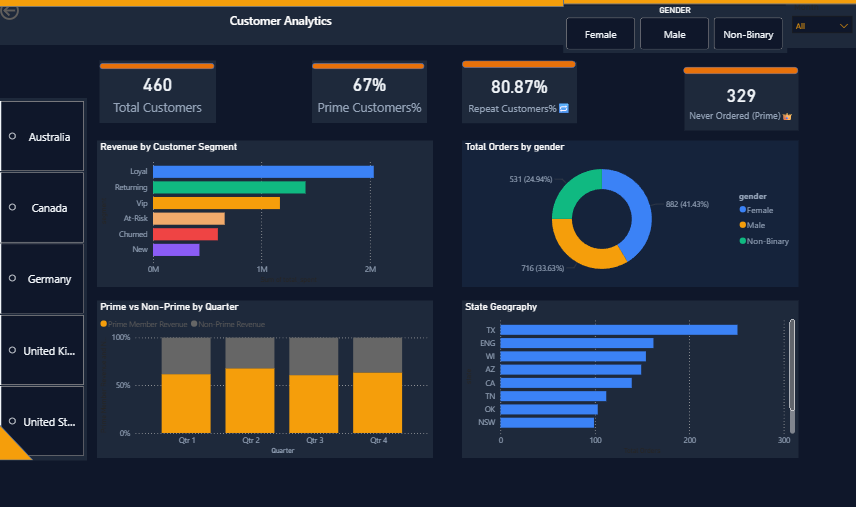

Layout of this report page (visuals, bound fields, positions):
{"tool":"powerbi","page":{"name":"Customers","canvas":[1377,823],"ordinal":1},"visuals":[{"type":"clusteredBarChart","title":"Revenue by Customer Segment","fields":{"Category":["public customers_clean.segment"],"Y":["Sum(public customers_clean.total_spent)"]},"box":[160.5,227.9,537.6,234.3],"z":0},{"type":"card","fields":{"Values":["Bridge Payment.VIP Customers"]},"box":[164,100,186,100],"z":1000},{"type":"shape","box":[164,104,184,10],"z":2000},{"type":"card","fields":{"Values":["Bridge Payment.Loyal Customers"]},"box":[504,100,184,100],"z":3000},{"type":"shape","box":[504,104,180,10],"z":4000},{"type":"card","fields":{"Values":["Bridge Payment.At-Risk Customers"]},"box":[744,102,184,98],"z":5000},{"type":"card","fields":{"Values":["Bridge Payment.Prime Members"]},"box":[1100,116,182,96],"z":6000},{"type":"shape","box":[744,100,182,12],"z":7000},{"type":"donutChart","fields":{"Y":["public categories_clean.Total Orders"],"Category":["public customers_clean.gender"]},"box":[744,228,538,234],"z":8000},{"type":"barChart","title":"State Geography","fields":{"Category":["public customers_clean.state"],"Y":["All_Measures.Total Orders"]},"box":[744,484,538,252],"z":9000},{"type":"hundredPercentStackedColumnChart","title":"Prime vs Non-Prime by Quarter","fields":{"Category":["Calendar.Date.Variation.Date Hierarchy.Quarter"],"Y":["Bridge Payment.Prime Member Revenue","Bridge Payment.Non-Prime Revenue"]},"box":[160.5,484.7,537.6,252],"z":10000},{"type":"textbox","box":[0,0,907.4,75.5],"z":11000},{"type":"advancedSlicerVisual","fields":{"Values":["public customers_clean.country"]},"box":[0,159.5,144.1,579.8],"z":12000},{"type":"actionButton","box":[0,0,100,40],"z":13000},{"type":"advancedSlicerVisual","title":"GENDER","fields":{"Values":["public customers_clean.gender"]},"box":[906,12,358,76],"z":14000},{"type":"shape","box":[1098,110,184,12],"z":15000},{"type":"shape","box":[0,677.5,58.3,61.7],"z":16000},{"type":"shape","box":[0,0,906.7,14.4],"z":17000},{"type":"slicer","fields":{"Values":["Calendar.Date.Variation.Date Hierarchy.Month"]},"box":[1262,0,116,80],"z":18000},{"type":"shape","box":[906,0,472,10],"z":19000}]}

Visuals, with their boxes in screenshot pixels (x1, y1, x2, y2), scaled from the page's 1377x823 canvas onto the 856x507 screenshot:
"Revenue by Customer Segment" clusteredBarChart: 100,140,434,285
card - Bridge Payment.VIP Customers: 102,62,218,123
shape: 102,64,216,70
card - Bridge Payment.Loyal Customers: 313,62,428,123
shape: 313,64,425,70
card - Bridge Payment.At-Risk Customers: 463,63,577,123
card - Bridge Payment.Prime Members: 684,71,797,131
shape: 463,62,576,69
donutChart - public categories_clean.Total Orders x public customers_clean.gender: 463,140,797,285
"State Geography" barChart: 463,298,797,453
"Prime vs Non-Prime by Quarter" hundredPercentStackedColumnChart: 100,299,434,454
textbox: 0,0,564,47
advancedSlicerVisual - public customers_clean.country: 0,98,90,455
actionButton: 0,0,62,25
"GENDER" advancedSlicerVisual: 563,7,786,54
shape: 683,68,797,75
shape: 0,417,36,455
shape: 0,0,564,9
slicer - Calendar.Date.Variation.Date Hierarchy.Month: 785,0,855,49
shape: 563,0,855,6
